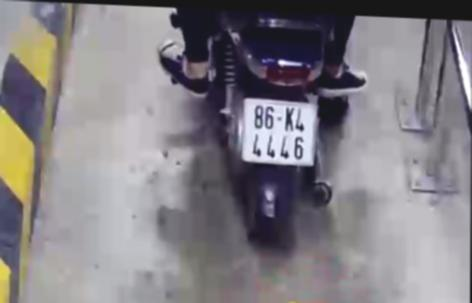License_Plate: (231, 93, 327, 174)
